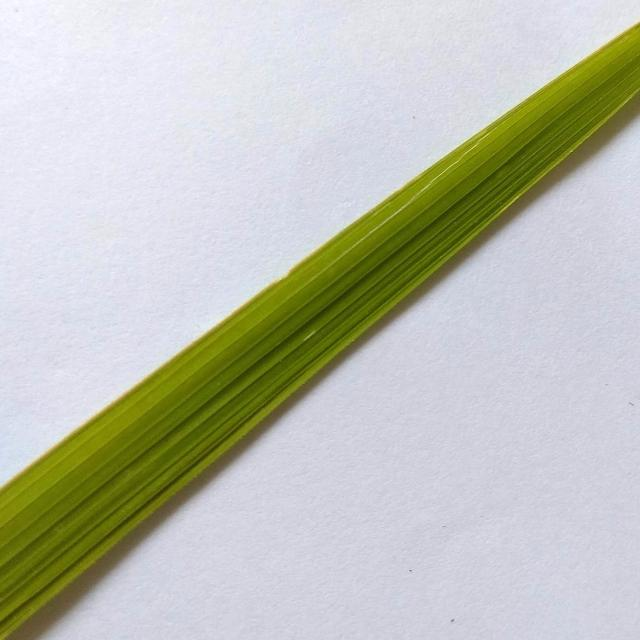Rice_Healthy: (0, 25, 640, 638)
